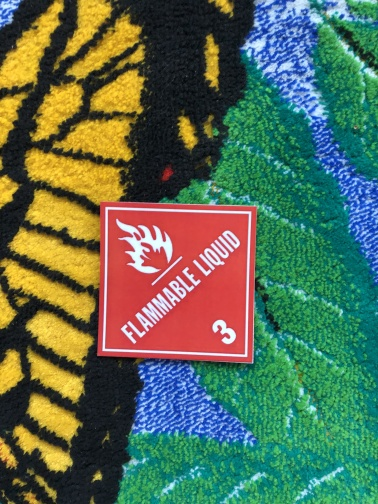FlammableLiquid: (100, 201, 251, 363)
